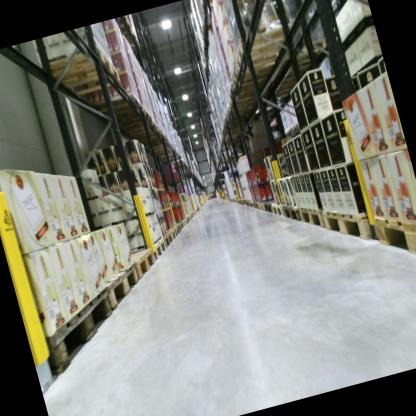pallet: (33, 286, 126, 377), (41, 39, 128, 102), (227, 21, 302, 73), (371, 202, 416, 270), (320, 198, 376, 251), (227, 52, 283, 89), (100, 261, 144, 308), (94, 88, 145, 126), (225, 70, 284, 102), (123, 245, 160, 281), (225, 86, 265, 114), (115, 107, 154, 134), (224, 95, 266, 118), (297, 200, 326, 233), (122, 119, 160, 142), (222, 106, 256, 127), (131, 126, 164, 145), (147, 236, 169, 261), (281, 200, 303, 225), (270, 199, 285, 219), (263, 198, 280, 215), (161, 229, 175, 248), (166, 223, 180, 241), (198, 0, 220, 11), (173, 221, 183, 234), (257, 200, 266, 213), (177, 220, 185, 231), (180, 217, 188, 226), (248, 199, 255, 209), (244, 198, 251, 208), (253, 200, 259, 210)
pallet_truck: (215, 175, 229, 201)
